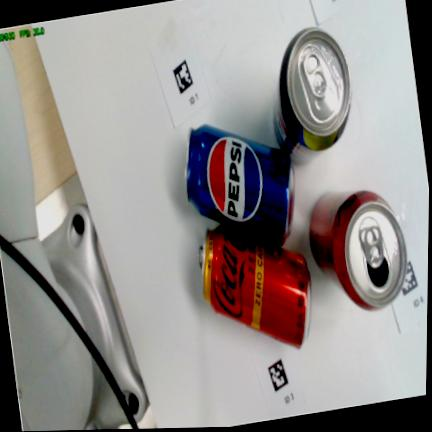can_coke_decaf: (199, 225, 310, 348)
can_coke_zero: (309, 189, 407, 309)
can_pepsi: (185, 124, 294, 245)
can_pepsi_zero: (273, 27, 351, 161)
